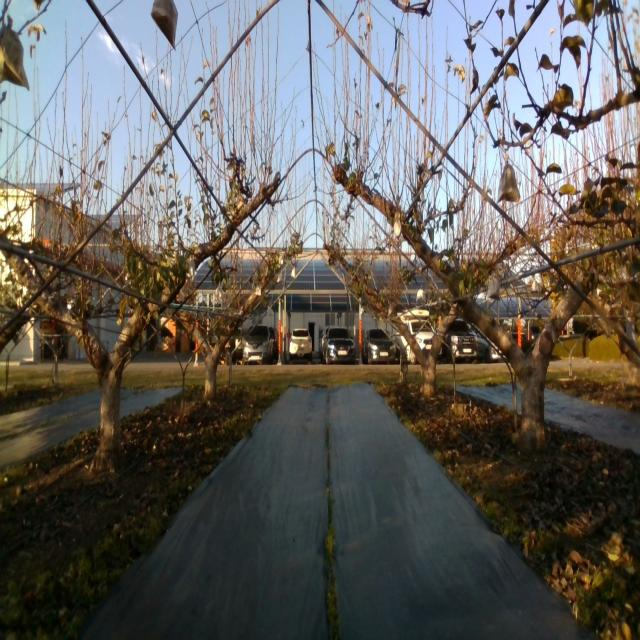pearbags: (0, 26, 30, 91), (150, 0, 178, 50), (497, 163, 520, 203), (487, 278, 501, 301)
